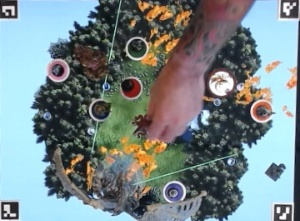blue: (88, 96, 114, 121)
green: (124, 35, 151, 61)
orange: (242, 96, 278, 126)
pink: (46, 56, 69, 82)
red: (118, 73, 144, 101)
violet: (163, 178, 189, 204)
